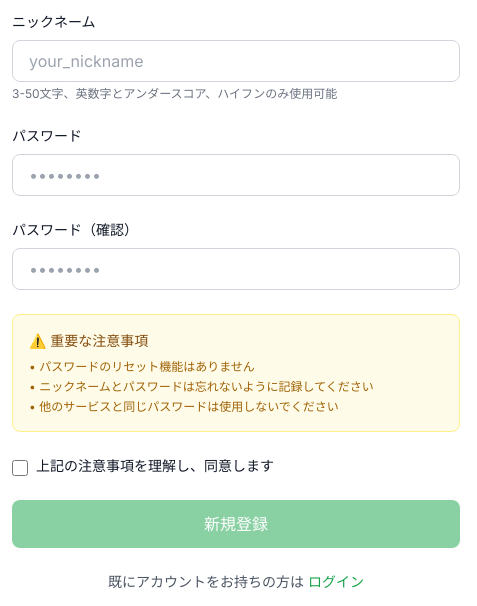
Test: RegisterForm › Agreement Checkbox › should enable submit button when agreed
Click the checkbox labelled "上記の注意事項を理解し、同意します" at (20,468), box [12,460,28,476]
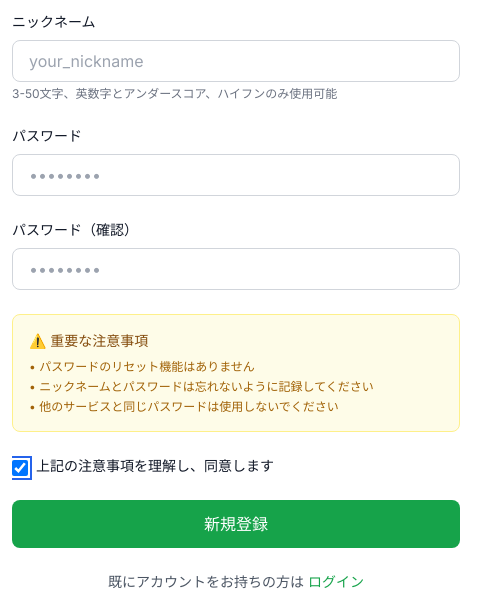
expect the button "新規登録" is enabled: met, box [12,500,460,548]
